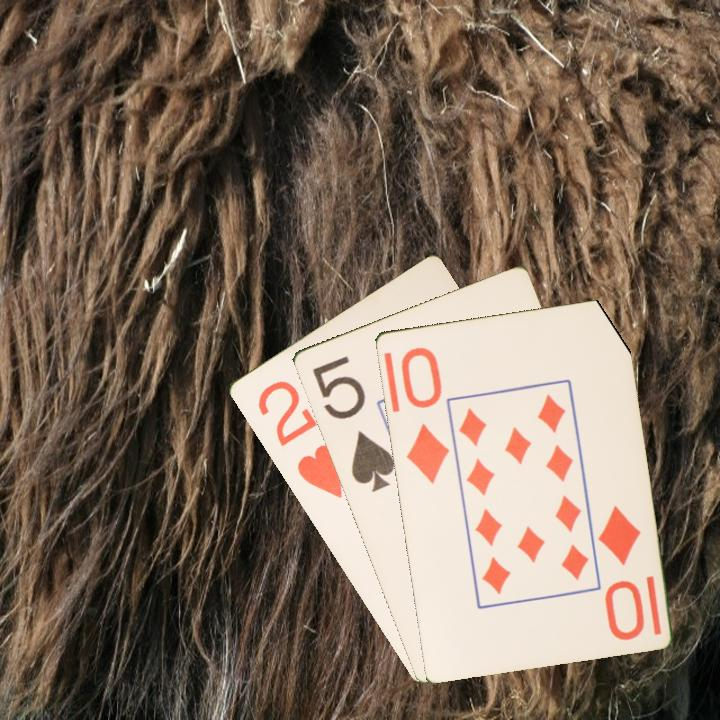10d: (397, 343, 452, 487), (594, 502, 647, 643)
2h: (253, 376, 345, 502)
5s: (308, 352, 398, 495)
